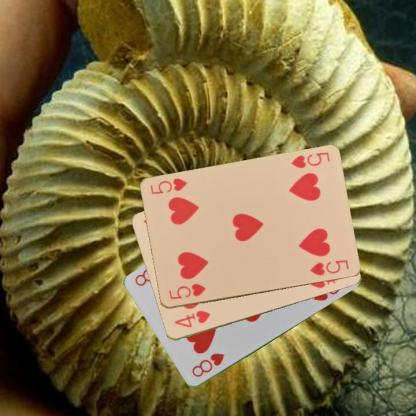4h: (172, 308, 212, 329)
5h: (288, 150, 331, 170), (166, 281, 207, 301)
8h: (189, 351, 226, 379)
